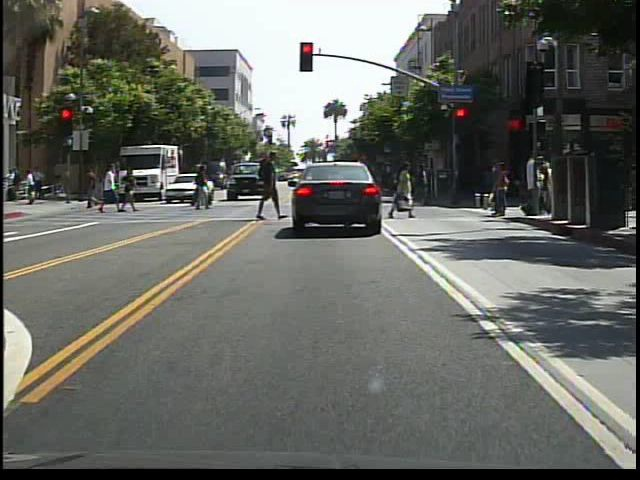person: (254, 148, 287, 224), (389, 160, 417, 221), (103, 163, 126, 217), (192, 165, 212, 214), (194, 164, 213, 210), (123, 168, 138, 213), (523, 149, 533, 216), (90, 165, 101, 212)
